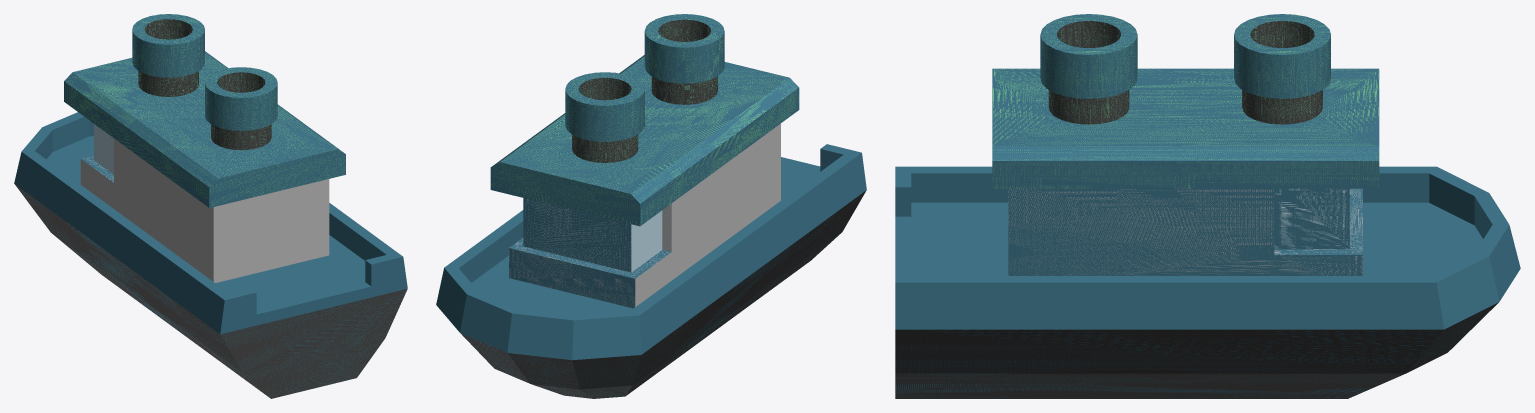
The model's file is boat_022.dae.
3 renders of one model, left to right at view 1: azimuth 30°, elevation 25°; view 2: azimuth 150°, elevation 25°; view 3: azimuth 270°, elevation 25°, orthographic. The views are drawn at different scales.
Parts seen in each view (by area): view 1: boat_022; view 2: boat_022; view 3: boat_022.
Boxes of the visible parts, x1,y1,x2,y2 form: boat_022: (14,14,407,398); boat_022: (436,14,866,398); boat_022: (895,14,1520,398).
Size of the model in its own units: 2.59 by 3.33 by 5.61.
